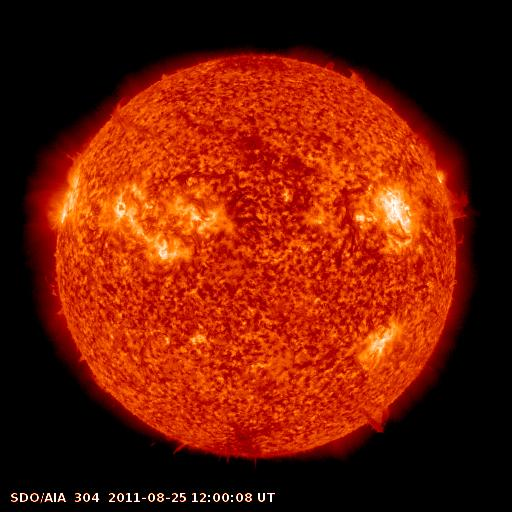prominence: (310, 50, 373, 98), (352, 399, 401, 439), (433, 181, 474, 228), (103, 85, 141, 124)
